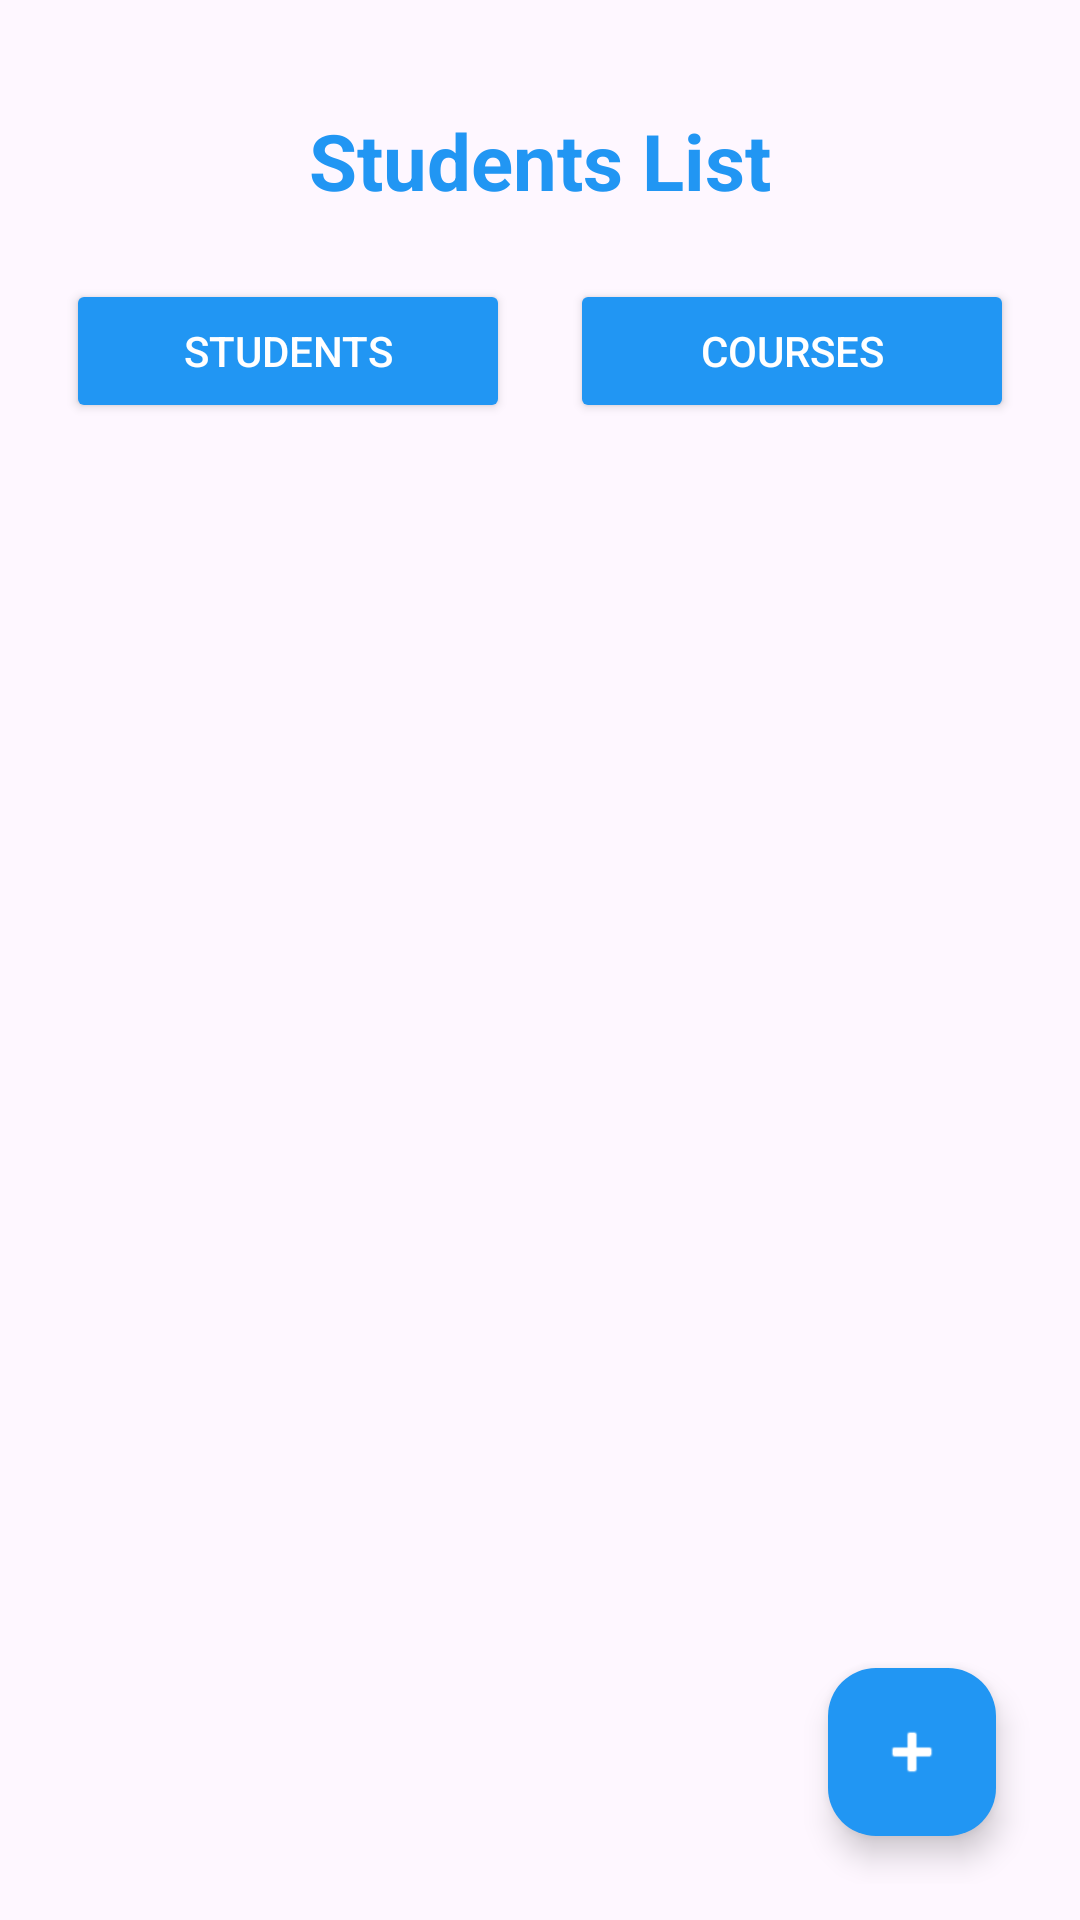

Named icons in this screenshot (1080*1920) and their centers, point (x, y):
add: point (912, 1752)
